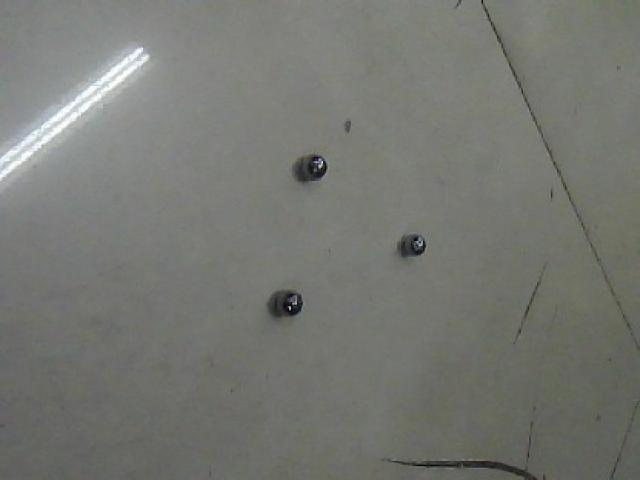steel-ball: (254, 260, 315, 338), (385, 220, 443, 277), (288, 137, 338, 192)
